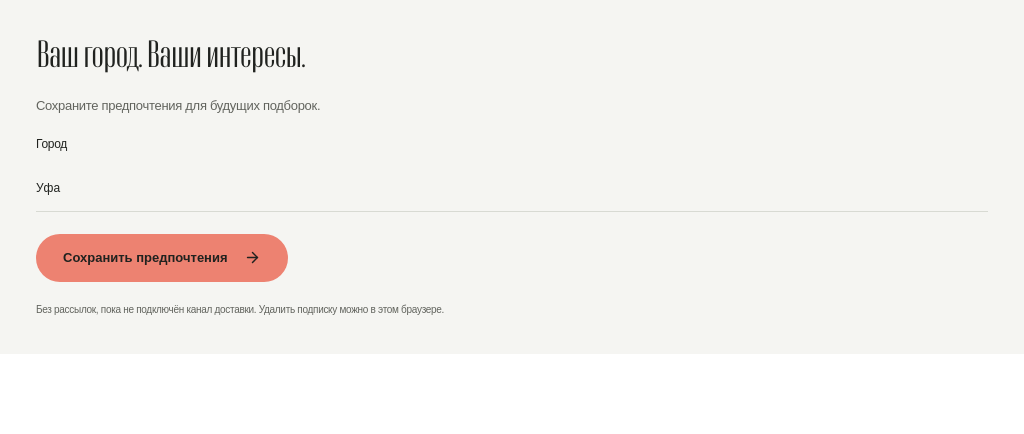
a lost subscription response keeps its key and body before retry after remount
Later steps or results of the test are not shown.
Click the button "Сохранить предпочтения" at (162, 258), box [36, 234, 288, 282]
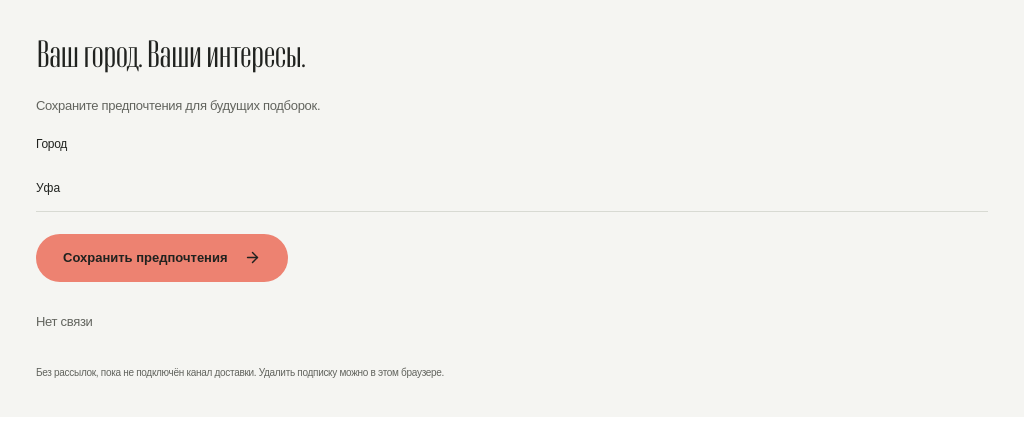
Check: the text "Нет связи" is shown, box [36, 314, 93, 329]
